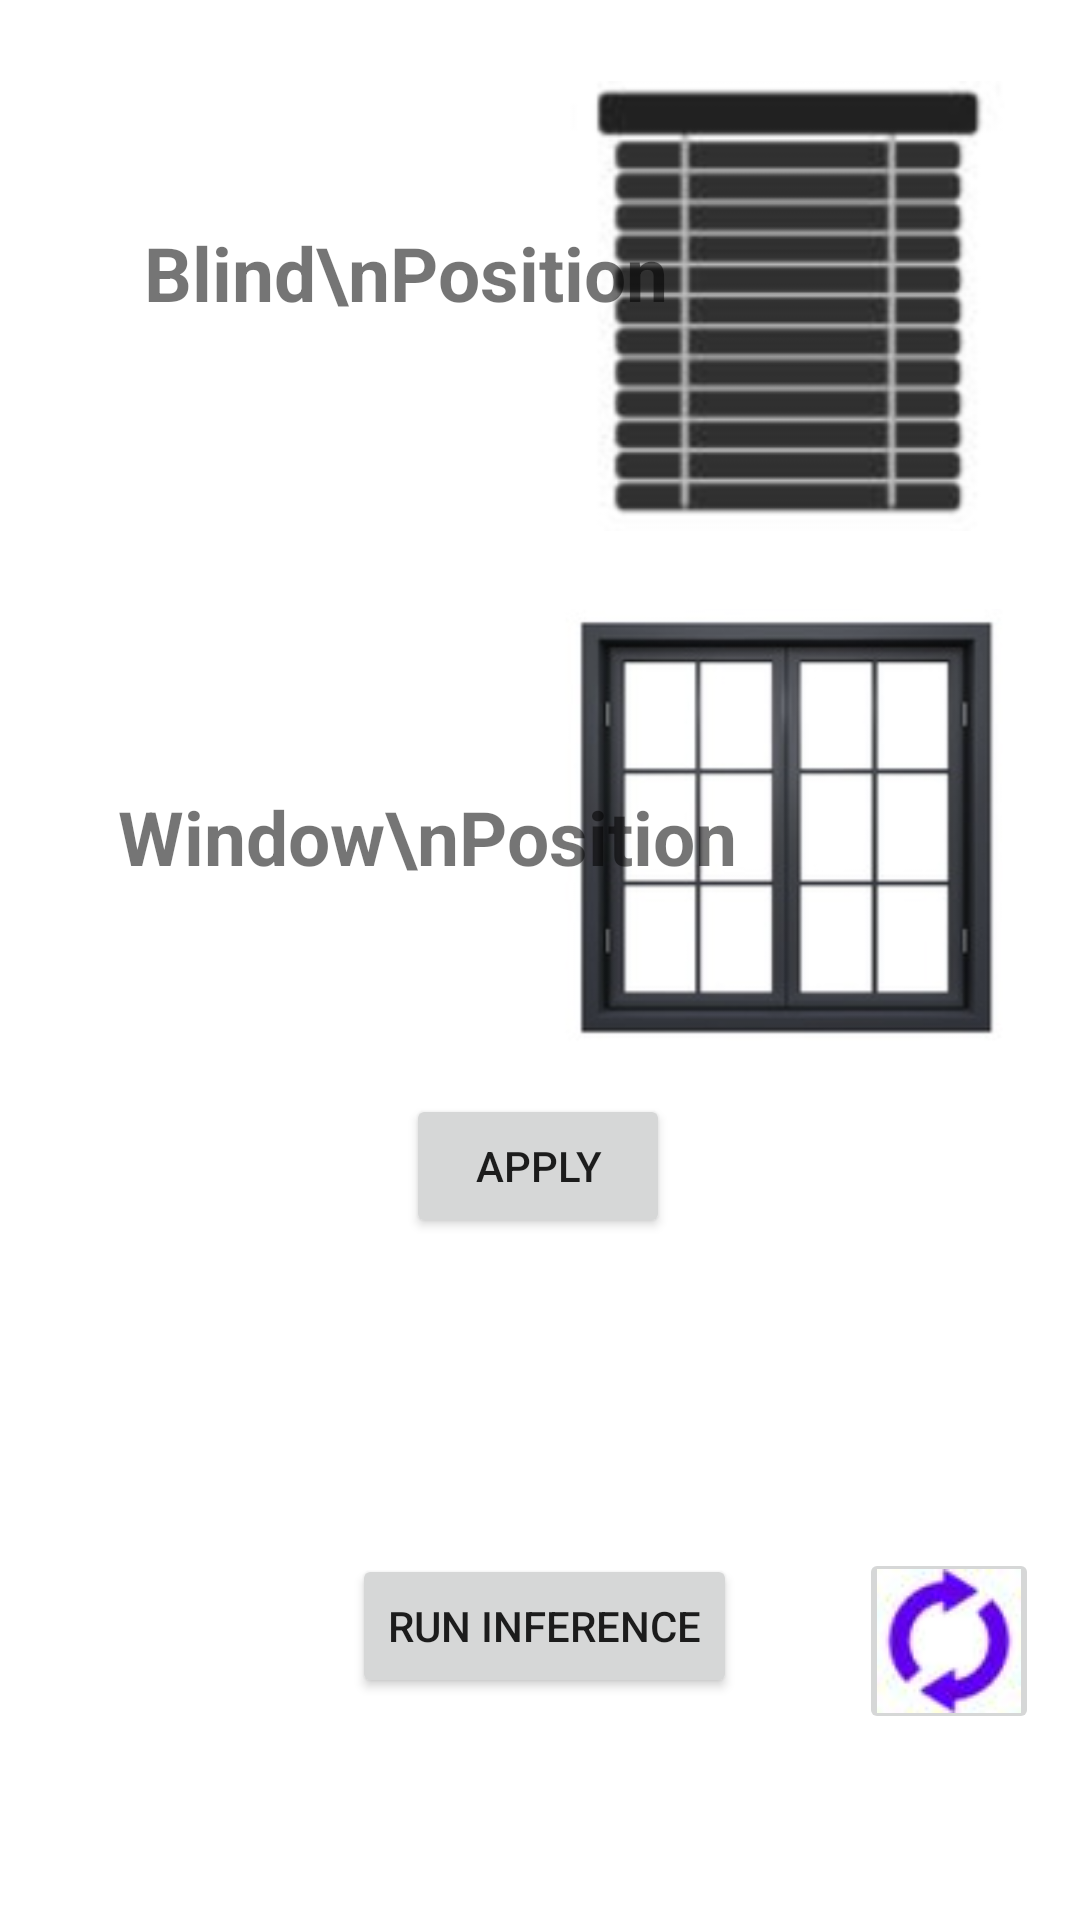

Where to tap for icons on this 1080w x 1920h app screen, as [x,y]:
refresh: [949,1641]
